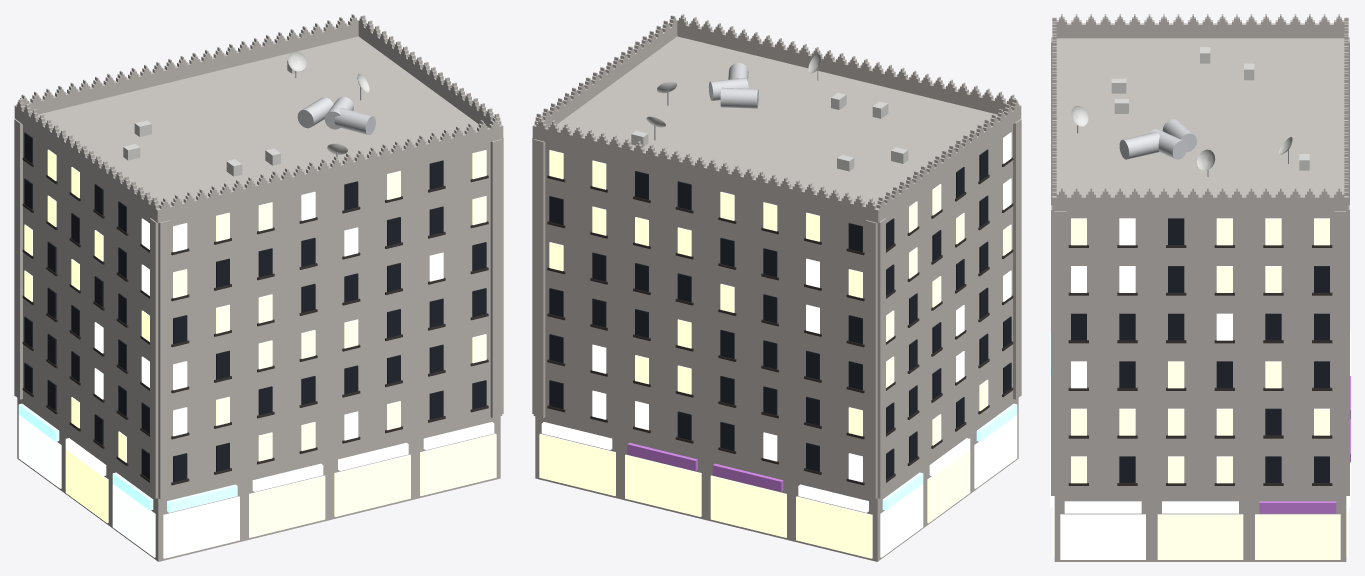
The model's file is SM_RiyadhBlock_06.fbx.
The picture shows the model from 3 angles, left to right: view 1: azimuth 30°, elevation 25°; view 2: azimuth 150°, elevation 25°; view 3: azimuth 270°, elevation 25°; orthographic projection. The views are drawn at different scales.
Parts seen in each view (by area): view 1: SM_RiyadhBlock_06; view 2: SM_RiyadhBlock_06; view 3: SM_RiyadhBlock_06.
Part boxes in pixels (x1,y1,x2,y2): SM_RiyadhBlock_06: (14, 14, 503, 561); SM_RiyadhBlock_06: (532, 14, 1021, 561); SM_RiyadhBlock_06: (1050, 14, 1350, 561).
Size of the model in its own units: 2862 by 2857 by 2062.
